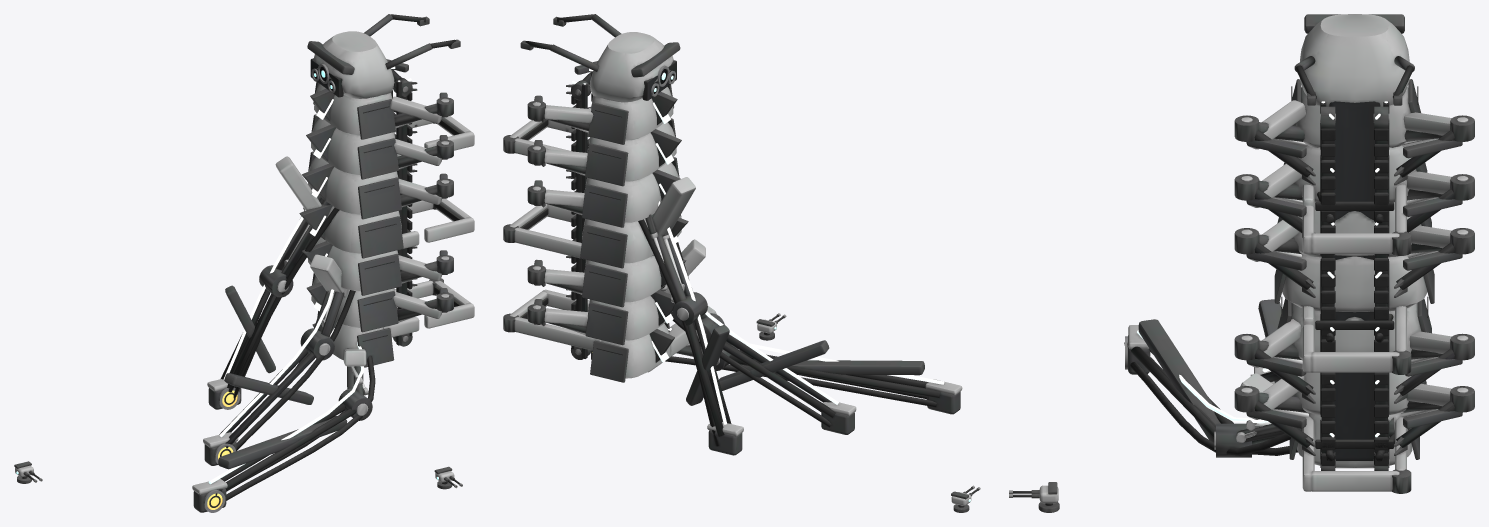
The model's file is siege.glb.
3 views of the same model, side by side, from view 1: azimuth 30°, elevation 25°; view 2: azimuth 150°, elevation 25°; view 3: azimuth 270°, elevation 25° (orthographic). The views are drawn at different scales.
Parts seen in each view (by area): view 1: body, clamp_0, clamp_1, clamp_2, head, drain_0, track_front, clamp_1_jaw, drain_2, drain_1, clamp_0_jaw, clamp_2_jaw; view 2: body, clamp_2, clamp_0, clamp_1, head, track_rear, drain_0, drain_2, clamp_1_jaw, clamp_0_jaw, drain_1, clamp_2_jaw; view 3: body, head, clamp_0, track_front, track_rear, clamp_1_jaw, clamp_2_jaw, clamp_0_jaw, clamp_1, drain_0, clamp_2, turret_0_head.
Boxes of the visible parts, left/top/right/bottom form: body: left=299, top=59, right=453, bottom=367; clamp_0: left=192, top=280, right=433, bottom=512; clamp_1: left=203, top=200, right=433, bottom=465; clamp_2: left=207, top=119, right=432, bottom=409; head: left=307, top=14, right=460, bottom=98; drain_0: left=226, top=355, right=375, bottom=500; track_front: left=393, top=78, right=412, bottom=346; clamp_1_jaw: left=424, top=198, right=474, bottom=242; drain_2: left=231, top=207, right=339, bottom=398; drain_1: left=236, top=290, right=355, bottom=450; clamp_0_jaw: left=424, top=278, right=474, bottom=328; clamp_2_jaw: left=424, top=116, right=474, bottom=150; body: left=527, top=61, right=688, bottom=382; clamp_2: left=514, top=138, right=743, bottom=455; clamp_0: left=514, top=306, right=962, bottom=414; clamp_1: left=514, top=227, right=856, bottom=434; head: left=520, top=14, right=680, bottom=102; track_rear: left=571, top=80, right=590, bottom=359; drain_0: left=665, top=356, right=936, bottom=407; drain_2: left=638, top=219, right=722, bottom=446; clamp_1_jaw: left=503, top=204, right=576, bottom=242; clamp_0_jaw: left=503, top=289, right=589, bottom=332; drain_1: left=650, top=294, right=831, bottom=427; clamp_2_jaw: left=503, top=119, right=589, bottom=153; body: left=1234, top=79, right=1474, bottom=468; head: left=1294, top=14, right=1414, bottom=106; clamp_0: left=1124, top=319, right=1406, bottom=470; track_front: left=1320, top=106, right=1335, bottom=470; track_rear: left=1373, top=106, right=1389, bottom=470; clamp_1_jaw: left=1302, top=324, right=1411, bottom=374; clamp_2_jaw: left=1302, top=205, right=1411, bottom=255; clamp_0_jaw: left=1302, top=445, right=1411, bottom=493; clamp_1: left=1254, top=299, right=1406, bottom=383; drain_0: left=1130, top=357, right=1394, bottom=461; clamp_2: left=1302, top=184, right=1406, bottom=232; turret_0_head: left=1009, top=482, right=1058, bottom=503.
Size of what is drawn, in the model's own units: 38.85 by 31.02 by 25.91.
4 materials, 1 textured.
